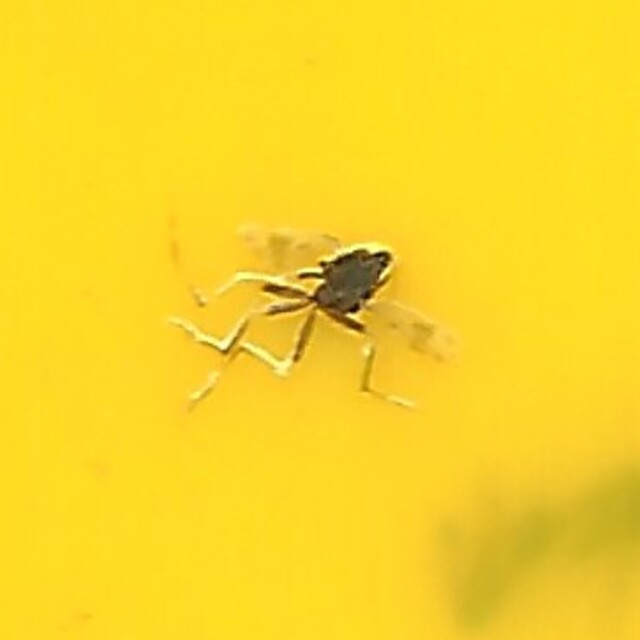Nematocera: (176, 221, 464, 419)
